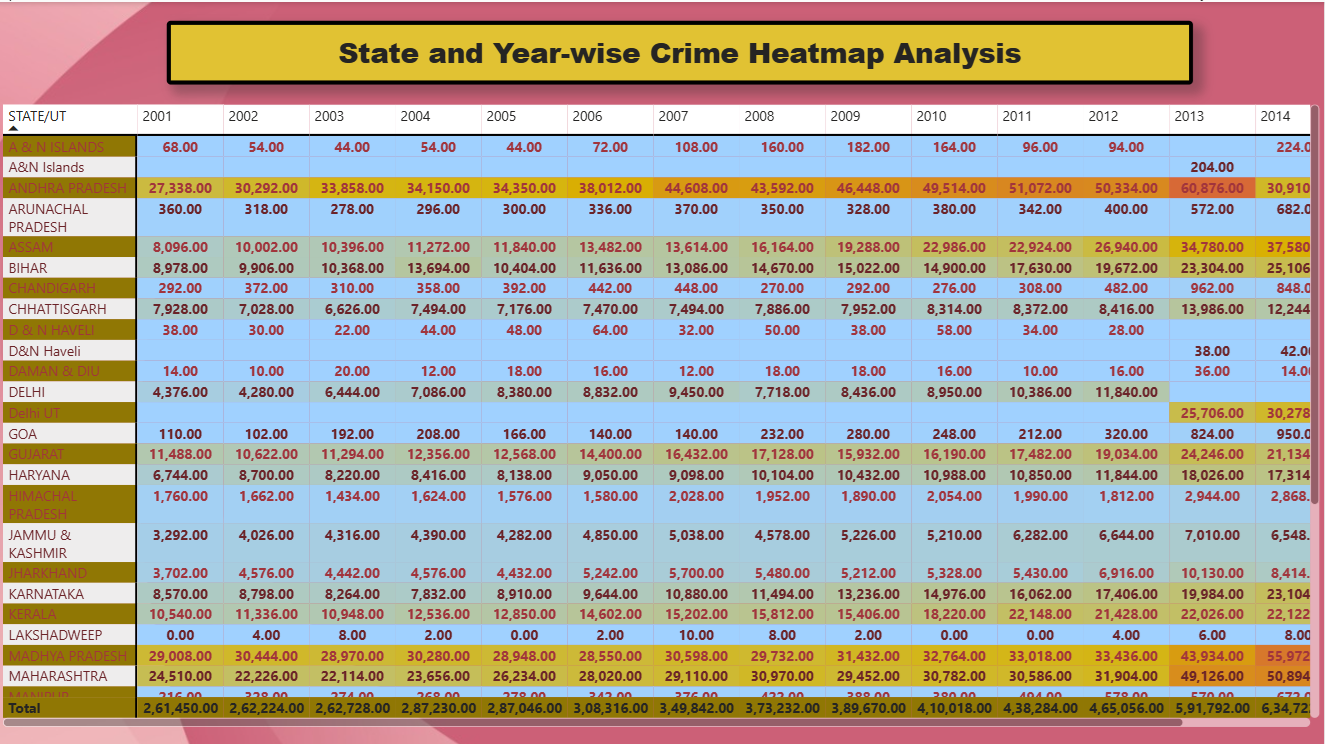

This screenshot's page, from the dashboard's own definition file:
{"tool":"powerbi","page":{"name":"Page 4","canvas":[1280,720],"ordinal":3},"visuals":[{"type":"pivotTable","fields":{"Rows":["crimes_against_women_2001-2014.STATE/UT"],"Columns":["crimes_against_women_2001-2014.Year"],"Values":["crimes_against_women_2001-2014.Total crime"]},"box":[0,93.9,1280.3,610.7],"z":0},{"type":"textbox","box":[162.5,18.2,990.3,61.6],"z":1000}]}

Visuals, with their boxes in screenshot pixels (x1, y1, x2, y2), scaled from the page's 1280x720 canvas onto the 1325x747 screenshot:
pivotTable - crimes_against_women_2001-2014.STATE/UT x crimes_against_women_2001-2014.Year: crop(0, 97, 1324, 731)
textbox: crop(168, 19, 1193, 83)
